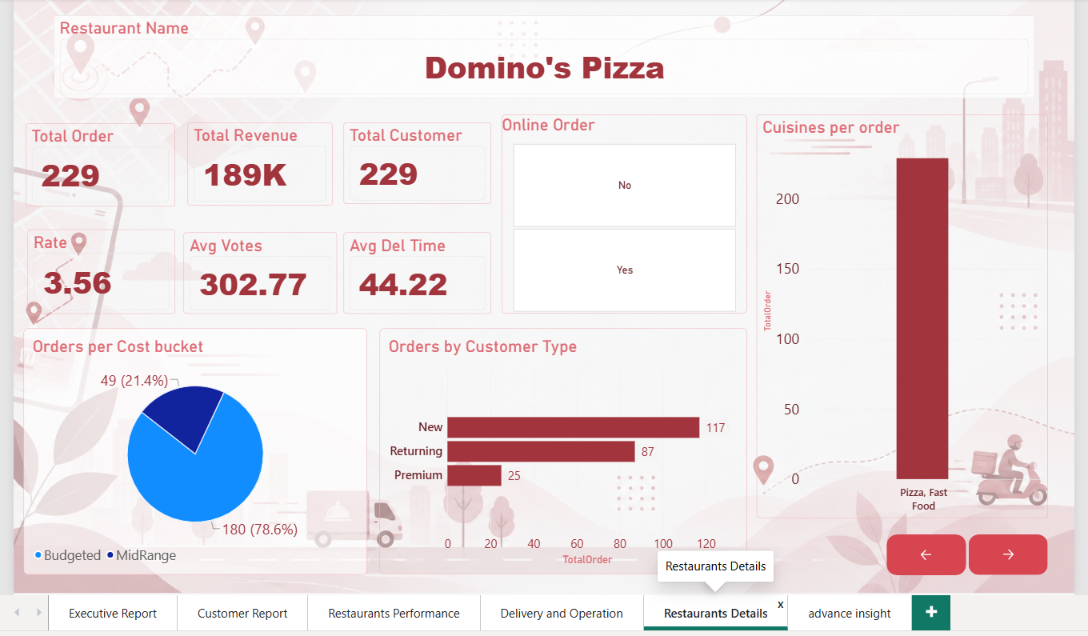

What the dashboard file says about the page in this screenshot:
{"tool":"powerbi","page":{"name":"Restaurants Details","canvas":[1920,1080],"ordinal":4},"visuals":[{"type":"cardVisual","title":"Total Order ","fields":{"Data":["Orders.TotalOrder"]},"box":[22.5,227,270,150],"z":0},{"type":"cardVisual","title":"Rate","fields":{"Data":["Avg(Restaurants.rate)"]},"box":[24.5,417.2,267.5,152.5],"z":1000},{"type":"cardVisual","title":"Total Revenue","fields":{"Data":["Orders.TotalRevenue"]},"box":[315,225,262.5,150],"z":2000},{"type":"cardVisual","title":"Avg Votes","fields":{"Data":["Orders.RestaurantAvgVote"]},"box":[306.8,423.4,277.5,147.5],"z":3000},{"type":"clusteredColumnChart","title":"Cuisines per order","fields":{"Category":["Restaurants.cuisines"],"Y":["Orders.TotalOrder"]},"box":[1345,210,527.5,730],"z":4000},{"type":"pieChart","title":"Orders per Cost bucket ","fields":{"Category":["Restaurants.CostBucket"],"Y":["Orders.TotalOrder"]},"box":[18.4,597.2,621.7,445.8],"z":5000},{"type":"actionButton","box":[1727.5,970,143.3,73.3],"z":6000},{"type":"actionButton","box":[1580,970,144,74],"z":7000},{"type":"clusteredBarChart","title":"Orders by Customer Type","fields":{"Category":["Customers.CustomerType"],"Y":["Orders.TotalOrder"]},"box":[662.5,597.5,665,445],"z":8000},{"type":"cardVisual","title":"Restaurant Name ","fields":{"Data":["Min(Restaurants.name)"]},"box":[72,30,1775,150],"z":9000},{"type":"cardVisual","title":"Avg Del Time ","fields":{"Data":["Orders.AvgDeltime"]},"box":[597.2,423.4,267.5,147.5],"z":10000},{"type":"cardVisual","title":"Total Customer","fields":{"Data":["Orders.TotalCustomer"]},"box":[597.2,225,267.5,147.5],"z":11000},{"type":"slicer","title":"Online  Order ","fields":{"Values":["Restaurants.OnlineOrder"]},"box":[883.5,210.7,443.8,360],"z":12000}]}

Visuals, with their boxes on the page's 1920x1080 design canvas (x1, y1, x2, y2). These are canvas units, not pixel positions in the 1088x636 screenshot, which may show the page scaled, cropped or inside an application window:
"Total Order " cardVisual: x1=22, y1=227, x2=292, y2=377
"Rate" cardVisual: x1=24, y1=417, x2=292, y2=570
"Total Revenue" cardVisual: x1=315, y1=225, x2=578, y2=375
"Avg Votes" cardVisual: x1=307, y1=423, x2=584, y2=571
"Cuisines per order" clusteredColumnChart: x1=1345, y1=210, x2=1872, y2=940
"Orders per Cost bucket " pieChart: x1=18, y1=597, x2=640, y2=1043
actionButton: x1=1728, y1=970, x2=1871, y2=1043
actionButton: x1=1580, y1=970, x2=1724, y2=1044
"Orders by Customer Type" clusteredBarChart: x1=662, y1=598, x2=1328, y2=1042
"Restaurant Name " cardVisual: x1=72, y1=30, x2=1847, y2=180
"Avg Del Time " cardVisual: x1=597, y1=423, x2=865, y2=571
"Total Customer" cardVisual: x1=597, y1=225, x2=865, y2=372
"Online  Order " slicer: x1=884, y1=211, x2=1327, y2=571
